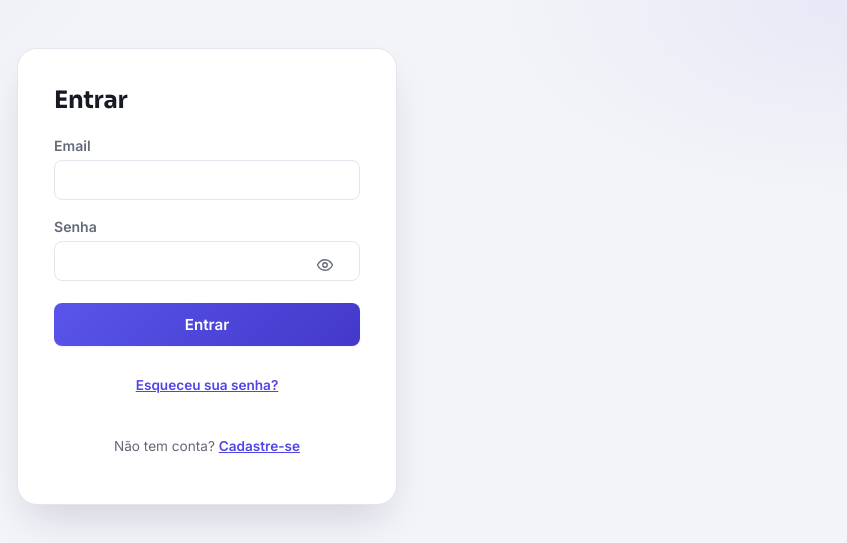
LoginPage › o botão "Mostrar senha" revela o que foi digitado no campo de senha
The width and height of the screenshot is (847, 543).
Type "minha-senha-secreta" into the password field labelled "Senha" at x=207, y=261, box 54,241 -> 360,281
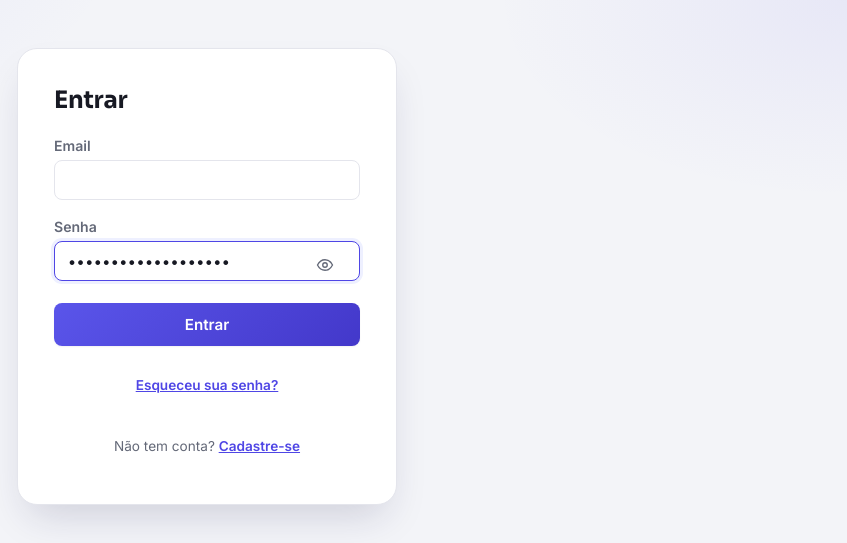
Click the button named "Mostrar senha" at x=325, y=265, box 295,244 -> 354,286
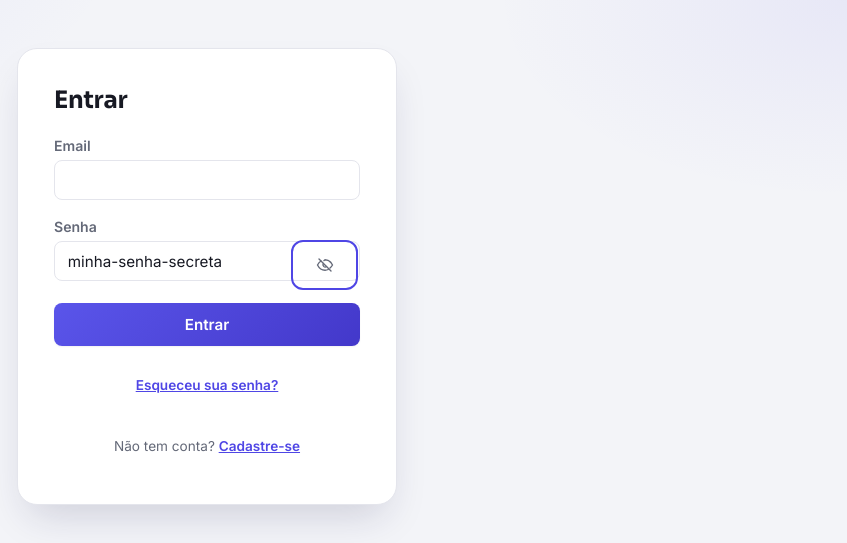
Check: the field labelled "Senha" shows its text, box 54,241 -> 360,281
